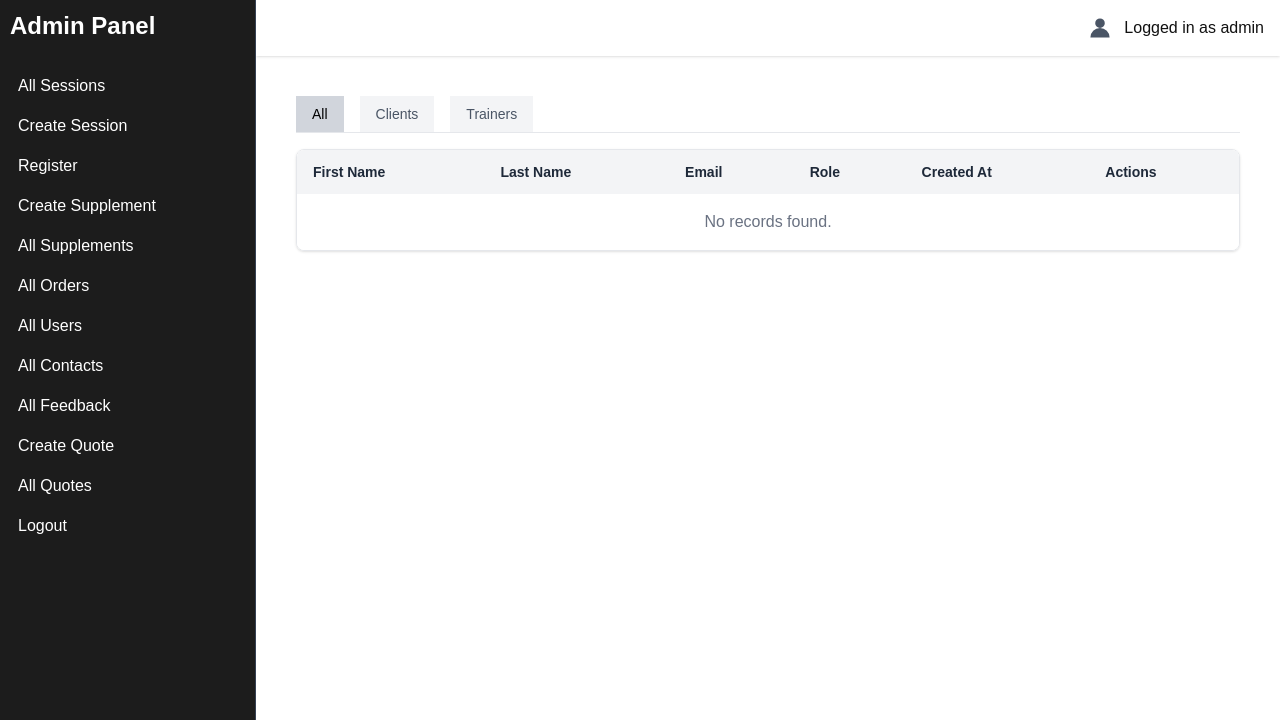
Test case: AllUsersPage - GET API › fetches Trainers when Trainers tab is clicked
Step 1. Click the button "Trainers" → (492, 114), box [450,96,533,132]
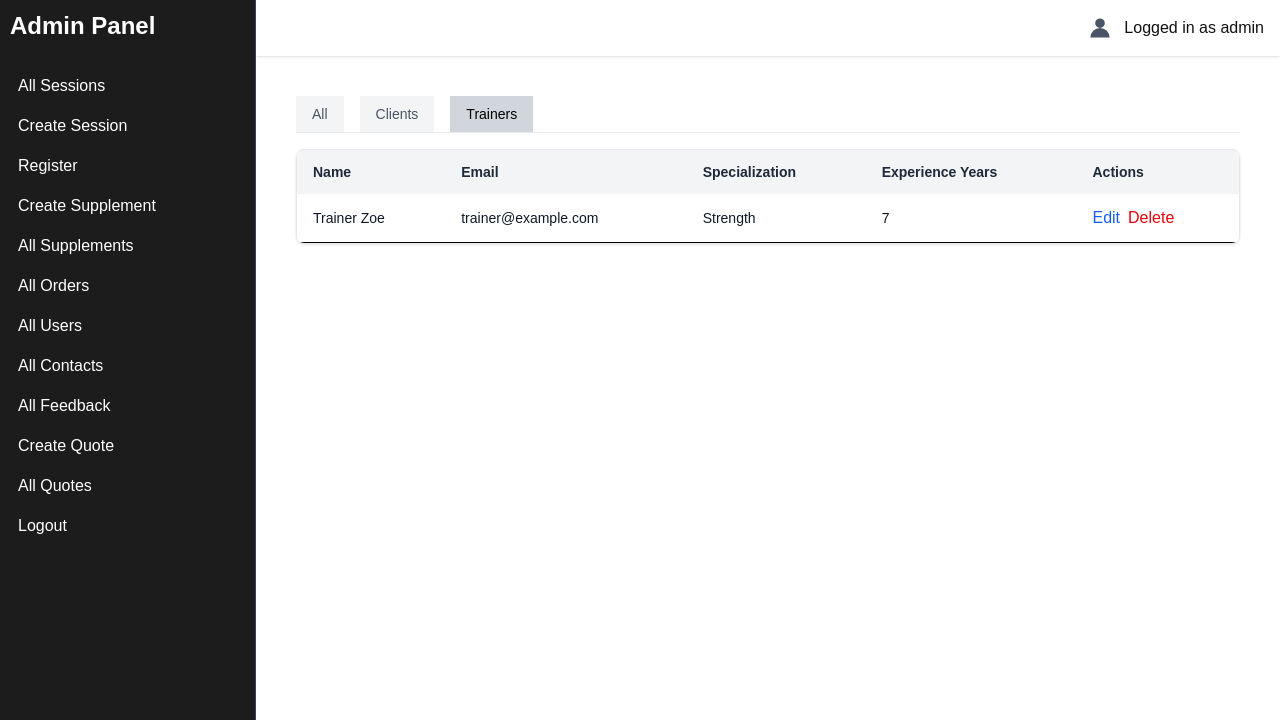
Expected: the text "Trainer Zoe" is shown, [297,194,445,242]
Expected: the text "trainer@example.com" is shown, [445,194,687,242]
Expected: the text "Strength" is shown, [687,194,866,242]
